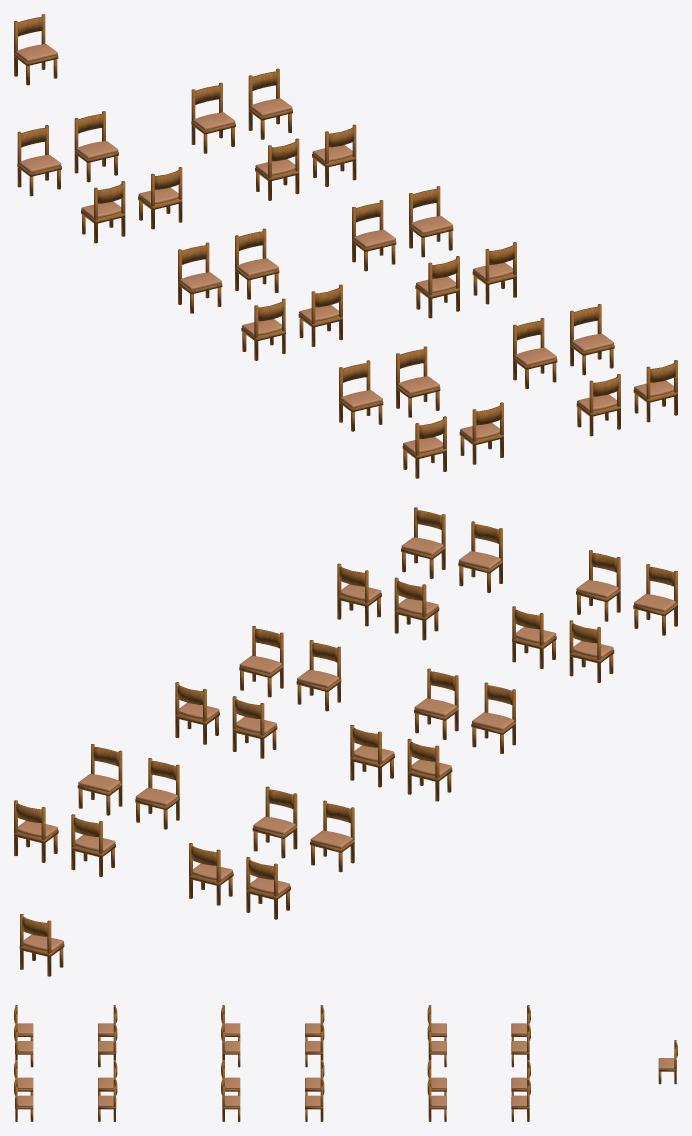
Rendered from Chair_2.glb.
3 renders of one model, top to bottom at view 1: azimuth 30°, elevation 25°; view 2: azimuth 150°, elevation 25°; view 3: azimuth 270°, elevation 25°, orthographic. The views are drawn at different scales.
Visible parts, largest first — view 1: Table.015, Table.001, Table.003, Table.004, Table.023, Table.010, Table.020, Table.012, Table.025, Table.016, Table.008, Table.018 (+13 smaller); view 2: Table.002, Table.013, Table.005, Table.012, Table.011, Table.017, Table.018, Table.021, Table.014, Table.019, Table.008, Table.009 (+13 smaller); view 3: Table.013, Table.006, Table.017, Table.016, Table.004, Table.007, Table.025, Table.002, Table.010, Table.021, Table.020, Table.001 (+13 smaller).
Part boxes in pixels (bbox=[...]): Table.015: bbox=[191, 82, 235, 153]; Table.001: bbox=[74, 111, 118, 182]; Table.003: bbox=[17, 125, 61, 196]; Table.004: bbox=[248, 68, 292, 139]; Table.023: bbox=[339, 360, 383, 431]; Table.010: bbox=[235, 228, 279, 299]; Table.020: bbox=[396, 346, 440, 417]; Table.012: bbox=[178, 242, 222, 313]; Table.025: bbox=[14, 14, 58, 85]; Table.016: bbox=[570, 304, 614, 375]; Table.008: bbox=[352, 200, 396, 271]; Table.018: bbox=[513, 318, 557, 388]; Table.002: bbox=[252, 786, 297, 858]; Table.013: bbox=[77, 744, 122, 815]; Table.005: bbox=[310, 800, 354, 872]; Table.012: bbox=[407, 738, 452, 801]; Table.011: bbox=[414, 668, 458, 739]; Table.017: bbox=[401, 507, 445, 578]; Table.018: bbox=[394, 577, 439, 640]; Table.021: bbox=[576, 550, 620, 621]; Table.014: bbox=[471, 682, 515, 753]; Table.019: bbox=[458, 521, 502, 592]; Table.008: bbox=[232, 696, 277, 758]; Table.009: bbox=[296, 640, 341, 711]; Table.013: bbox=[427, 1077, 446, 1121]; Table.006: bbox=[305, 1077, 324, 1121]; Table.017: bbox=[14, 1077, 33, 1121]; Table.016: bbox=[98, 1077, 117, 1121]; Table.004: bbox=[511, 1077, 530, 1121]; Table.007: bbox=[221, 1077, 240, 1121]; Table.025: bbox=[658, 1040, 677, 1084]; Table.002: bbox=[427, 1023, 446, 1067]; Table.010: bbox=[305, 1023, 324, 1067]; Table.021: bbox=[14, 1023, 33, 1067]; Table.020: bbox=[98, 1023, 117, 1067]; Table.001: bbox=[511, 1023, 530, 1067].
Size of the model in its own units: 3.55 by 0.6989 by 12.1.
2 materials, 1 textured.
